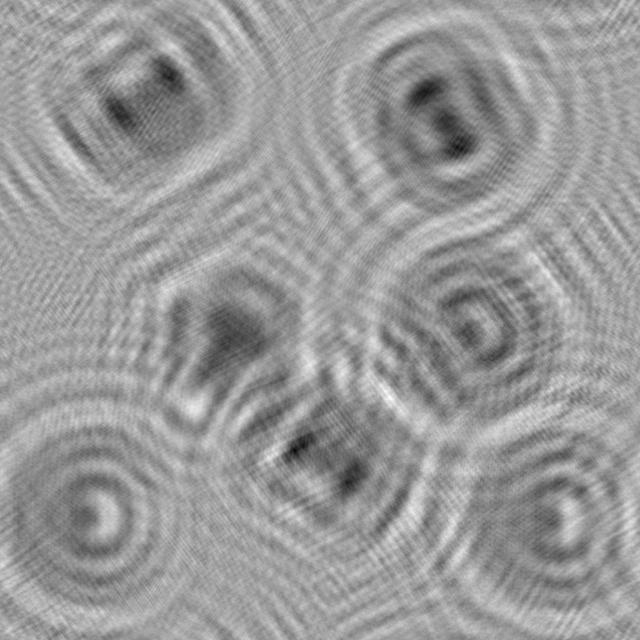A: (93, 220, 336, 481)
B: (306, 0, 593, 253)
C: (410, 373, 640, 640), (0, 371, 220, 640)
D: (320, 199, 614, 476)
E: (0, 0, 299, 219), (200, 337, 449, 582)
